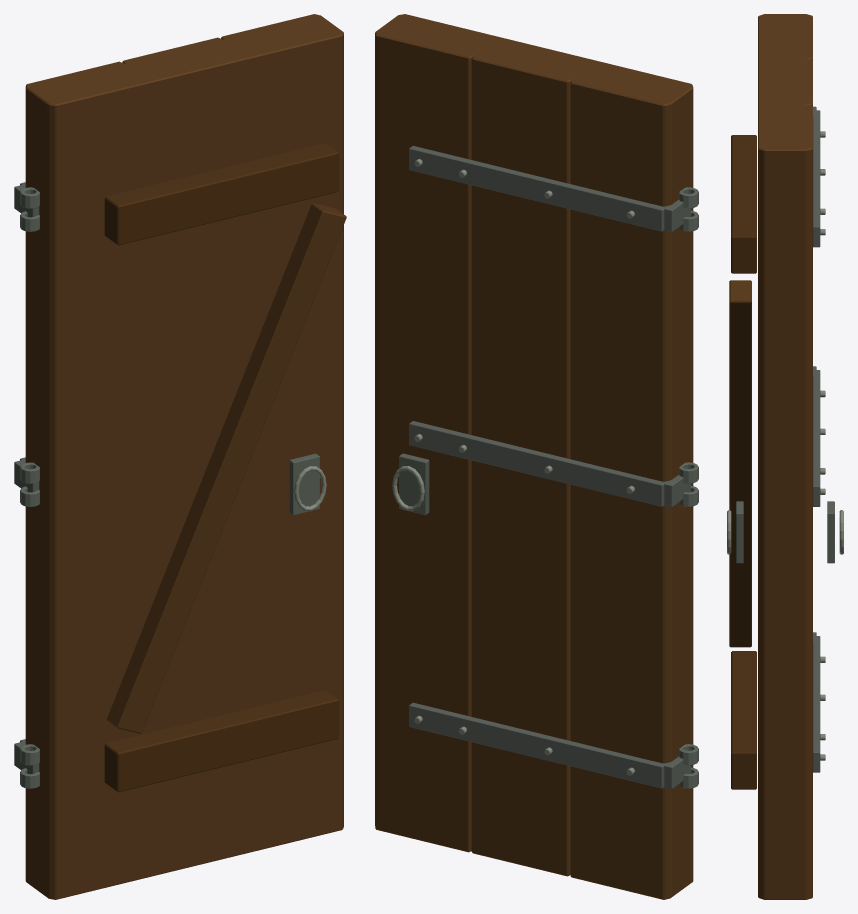
The model's file is Porte_V5.fbx.
The picture shows the model from 3 angles, left to right: view 1: azimuth 30°, elevation 25°; view 2: azimuth 150°, elevation 25°; view 3: azimuth 270°, elevation 25°; orthographic projection. The views are drawn at different scales.
Parts seen in each view (by area): view 1: V5_Porte_Bois_Deux_Faces, V5_Porte_Ferrures_Charniere; view 2: V5_Porte_Bois_Deux_Faces, V5_Porte_Ferrures_Charniere; view 3: V5_Porte_Bois_Deux_Faces, V5_Porte_Ferrures_Charniere.
Boxes of the visible parts, <box> form: V5_Porte_Bois_Deux_Faces: <box>25,14,346,899</box>; V5_Porte_Ferrures_Charniere: <box>14,182,326,788</box>; V5_Porte_Bois_Deux_Faces: <box>375,14,693,899</box>; V5_Porte_Ferrures_Charniere: <box>392,146,698,788</box>; V5_Porte_Bois_Deux_Faces: <box>729,14,812,899</box>; V5_Porte_Ferrures_Charniere: <box>727,106,843,772</box>.
Bounding box in the file's own units: 98.3 × 240 × 33.89.
